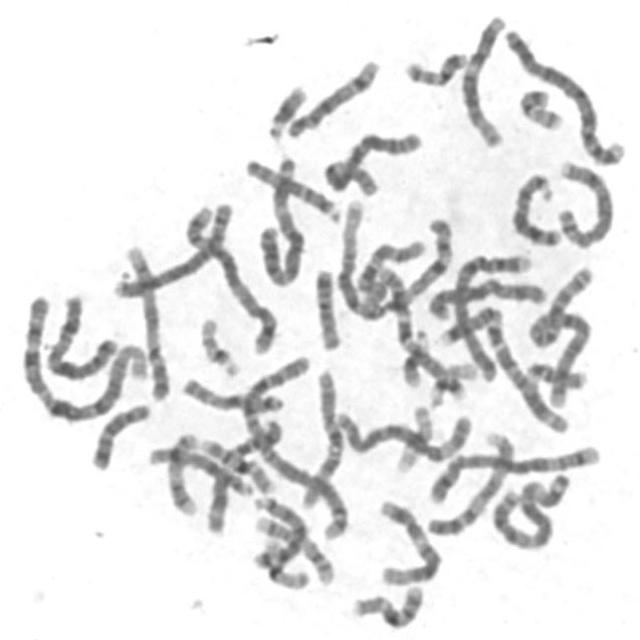A1: (14, 286, 152, 426), (329, 197, 455, 320)
A2: (236, 348, 350, 545), (522, 256, 599, 408)
A3: (249, 149, 308, 288), (485, 467, 572, 552)
B4: (499, 21, 628, 168), (441, 247, 538, 375)
B5: (177, 198, 280, 356), (421, 438, 602, 504)
C10: (296, 363, 344, 514), (351, 233, 428, 298)
C11: (200, 412, 289, 536), (517, 352, 591, 433)
C12: (454, 7, 509, 150), (372, 493, 444, 588)
C6: (329, 403, 476, 465), (319, 123, 425, 195)
C7: (366, 259, 472, 401), (433, 302, 521, 381)
C8: (109, 193, 234, 298), (551, 152, 616, 250)
C9: (420, 424, 518, 538), (119, 238, 173, 402)
D13: (243, 494, 316, 570), (506, 165, 563, 248)
D14: (279, 52, 383, 142), (140, 446, 257, 502)
D15: (238, 150, 345, 224), (175, 369, 290, 416)
E16: (194, 432, 278, 495), (345, 577, 427, 631)
E17: (249, 508, 337, 588), (161, 424, 202, 518)
E18: (84, 395, 154, 472), (308, 261, 344, 352)
F19: (255, 534, 312, 591), (516, 87, 568, 130)
F20: (392, 396, 445, 479), (398, 43, 472, 88)
G21: (260, 77, 310, 142), (396, 323, 432, 388)
G22: (192, 311, 243, 378), (423, 353, 481, 408)
X: (39, 288, 119, 384), (422, 272, 551, 321)
